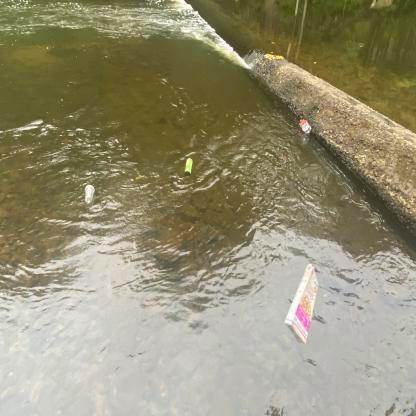Metal: (184, 155, 195, 177)
Plastic: (81, 182, 98, 209), (296, 116, 314, 136)
